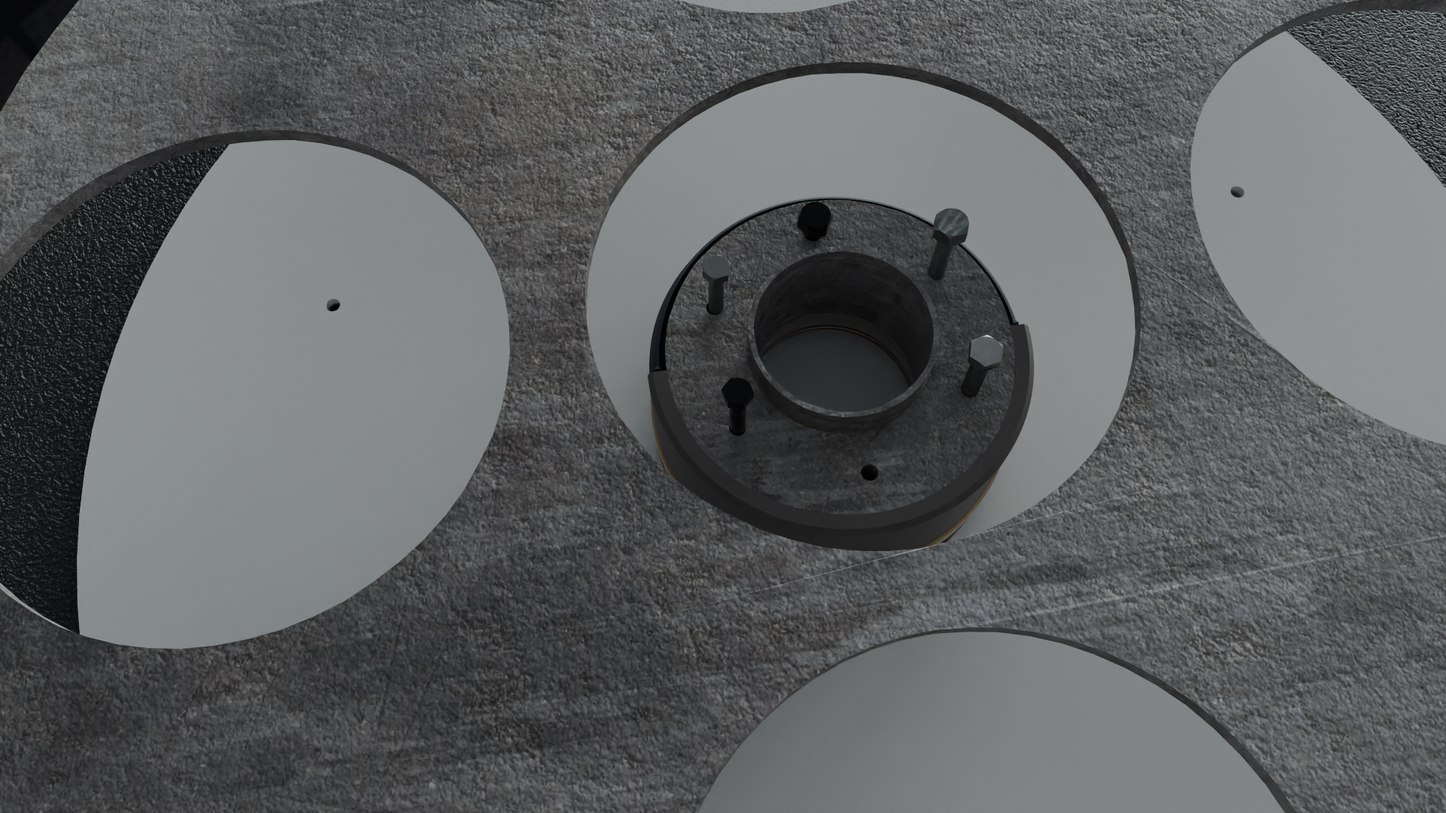bolt: (935, 208, 969, 240), (970, 335, 1003, 367), (798, 202, 833, 230), (721, 378, 754, 405), (703, 254, 731, 280)
